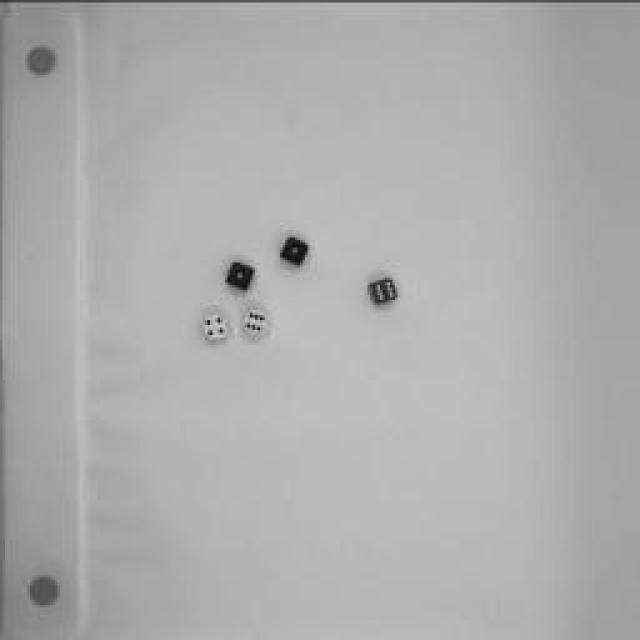dice_1: (221, 259, 259, 296), (276, 232, 312, 268)
dice_4: (199, 310, 231, 348)
dice_6: (365, 274, 397, 306), (239, 305, 271, 337)
